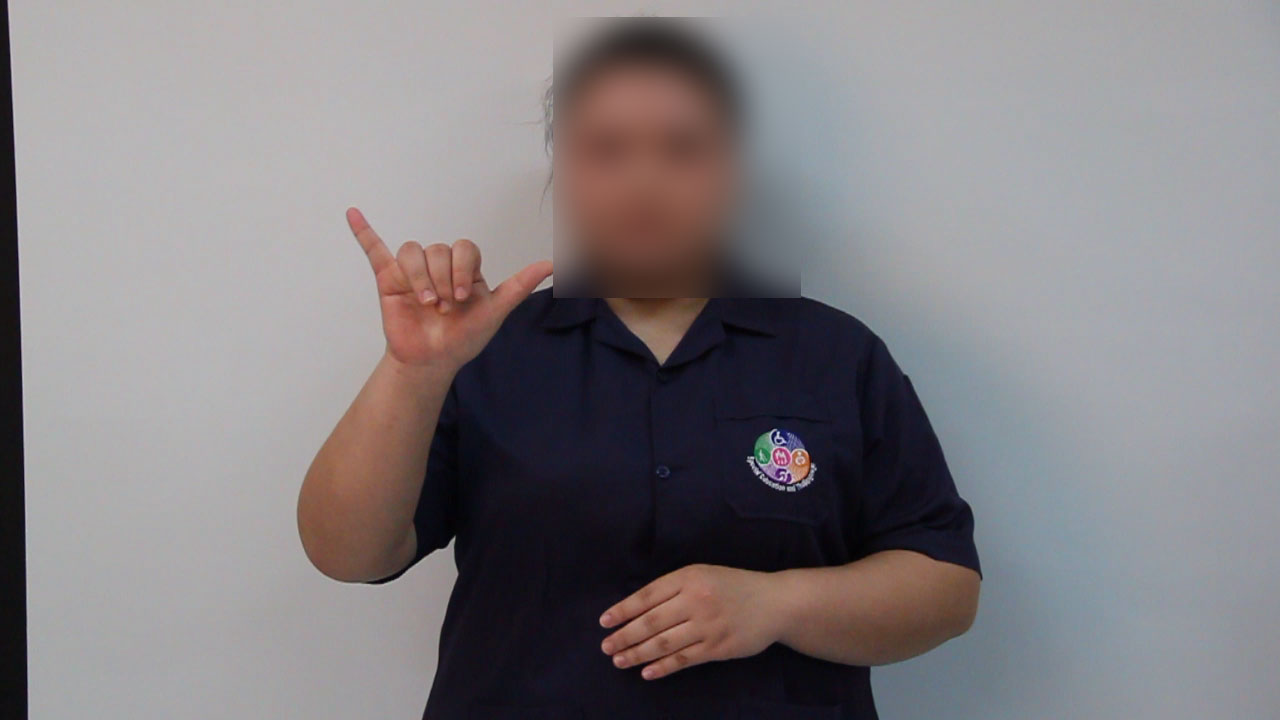yor: (327, 193, 565, 390)
